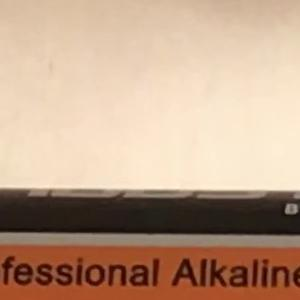ALK: (162, 249, 229, 297)
